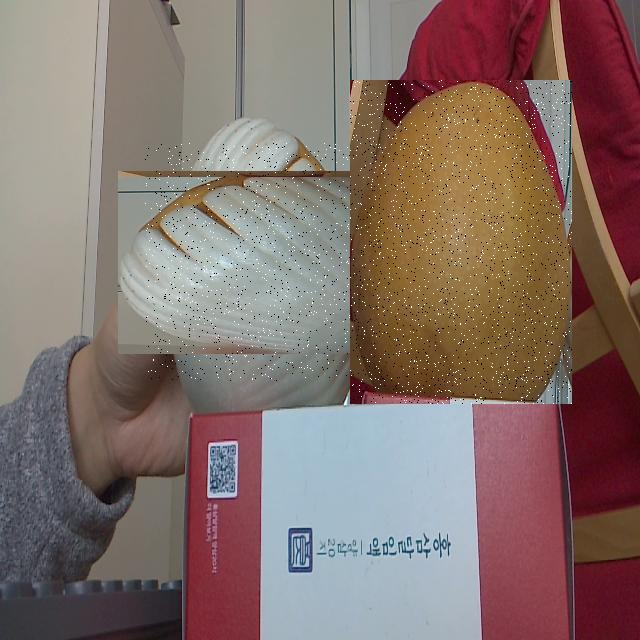pear: (350, 80, 572, 404), (145, 143, 383, 381)
